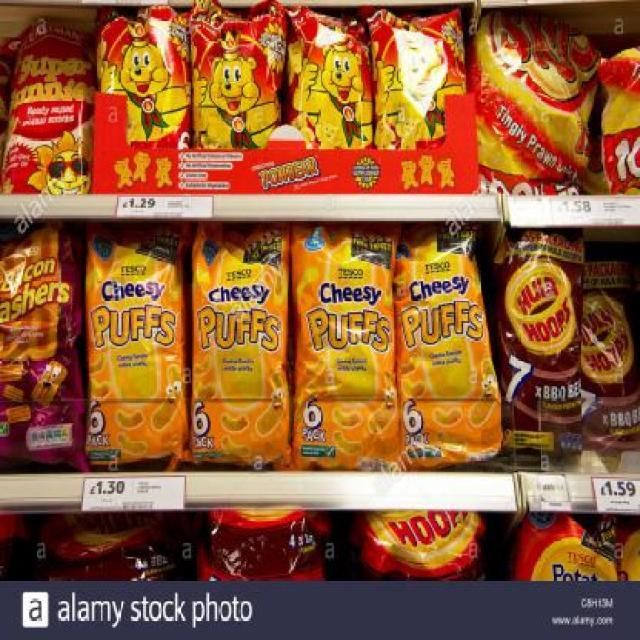Chips: (392, 230, 502, 479), (290, 233, 398, 475), (84, 228, 190, 466), (188, 223, 286, 468), (472, 14, 594, 202), (494, 229, 583, 457), (190, 2, 288, 166), (5, 18, 93, 194), (366, 4, 464, 148), (94, 12, 192, 154), (284, 7, 374, 159)
